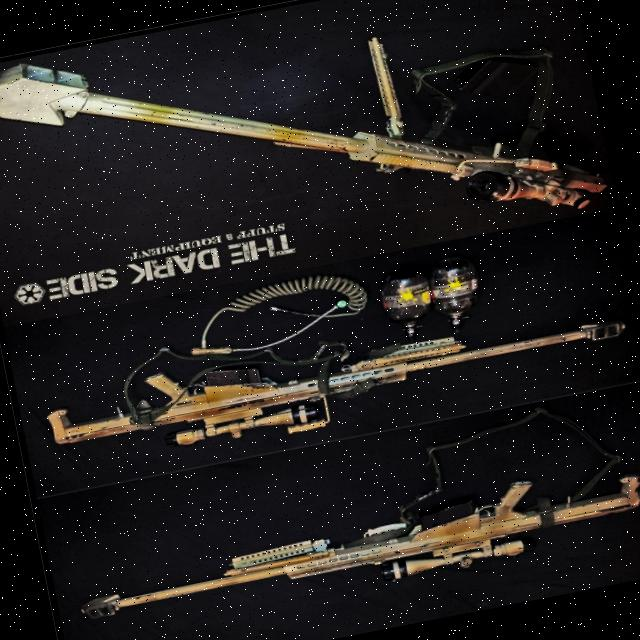grenade: (429, 248, 489, 334), (374, 264, 439, 340)
